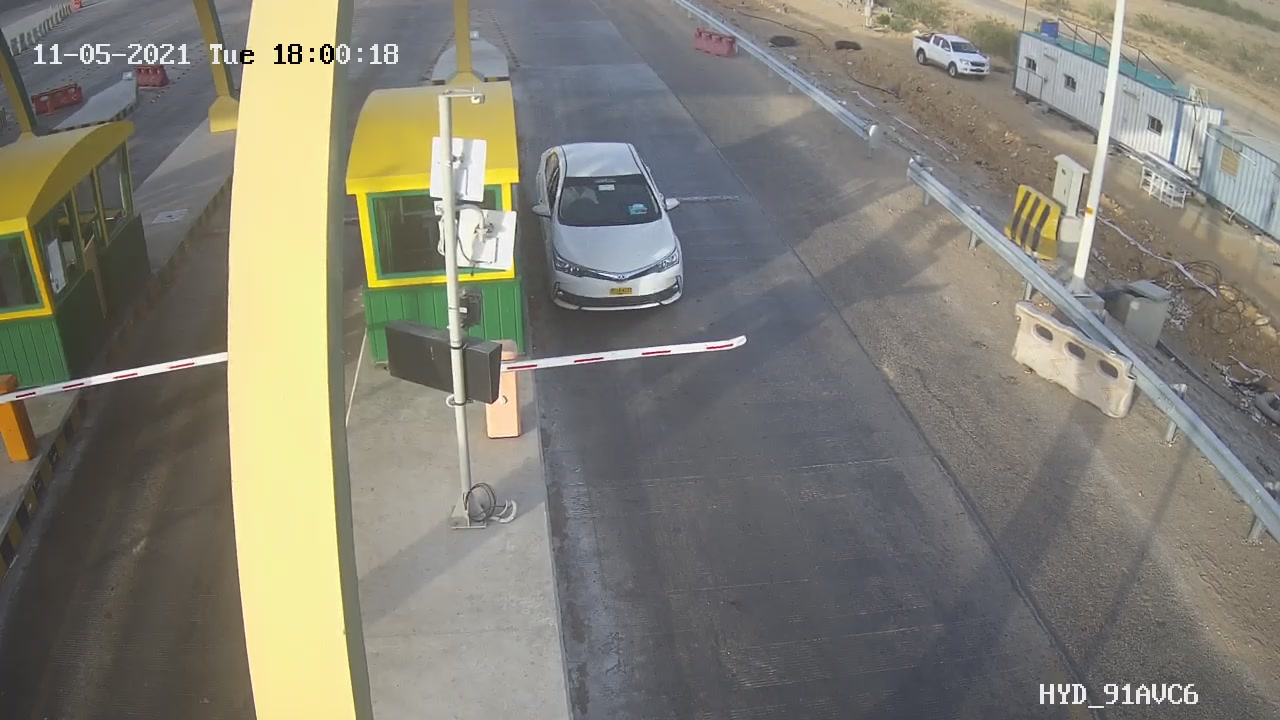F1: (531, 136, 694, 316)
